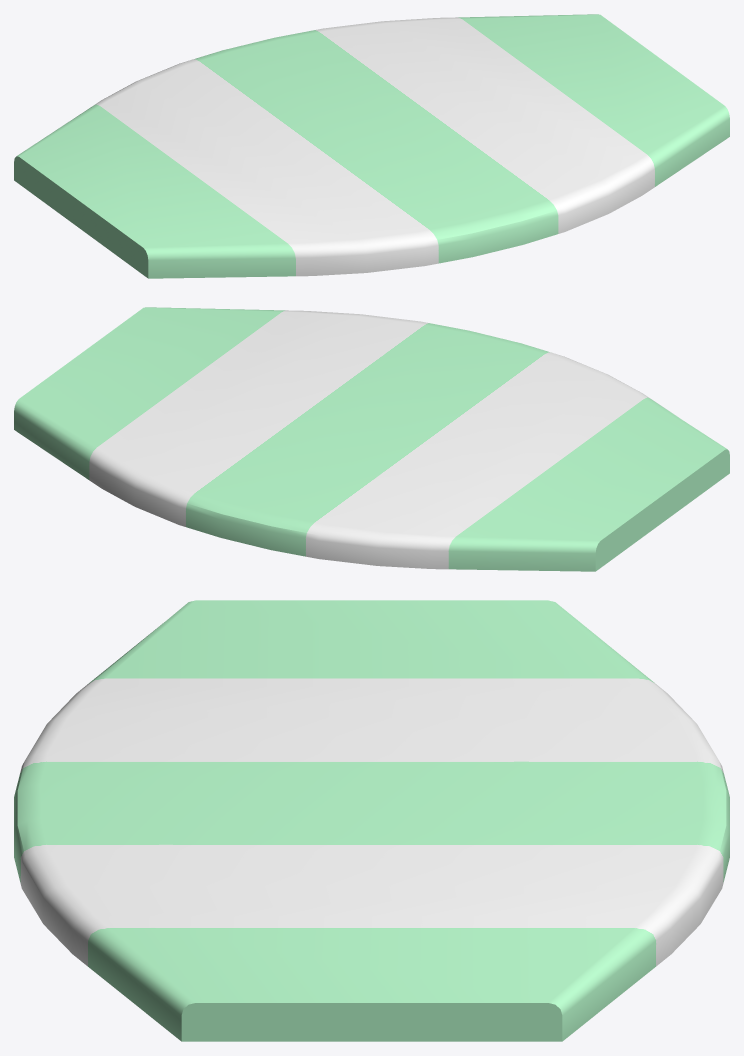
File: RoadWide_green.fbx
3 renders of one model, top to bottom at view 1: azimuth 30°, elevation 25°; view 2: azimuth 150°, elevation 25°; view 3: azimuth 270°, elevation 25°, orthographic. The views are drawn at different scales.
Visible parts, largest first — view 1: RoadWide_green; view 2: RoadWide_green; view 3: RoadWide_green.
Boxes of the visible parts, x1=… form: RoadWide_green: x1=14, y1=14, x2=729, y2=278; RoadWide_green: x1=14, y1=307, x2=729, y2=571; RoadWide_green: x1=14, y1=600, x2=729, y2=1041.
Size of the model in its own units: 750 by 33.61 by 564.
1 material, 1 textured.
